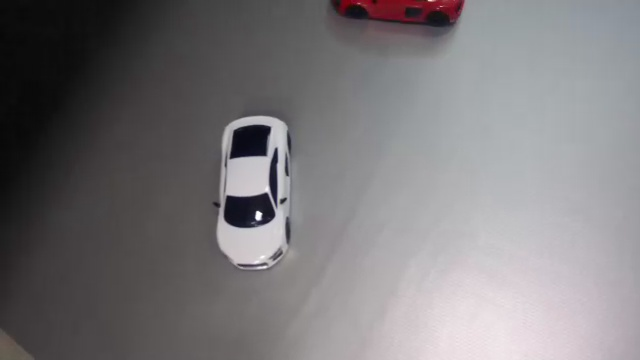car: (212, 115, 293, 271), (332, 1, 466, 26)
